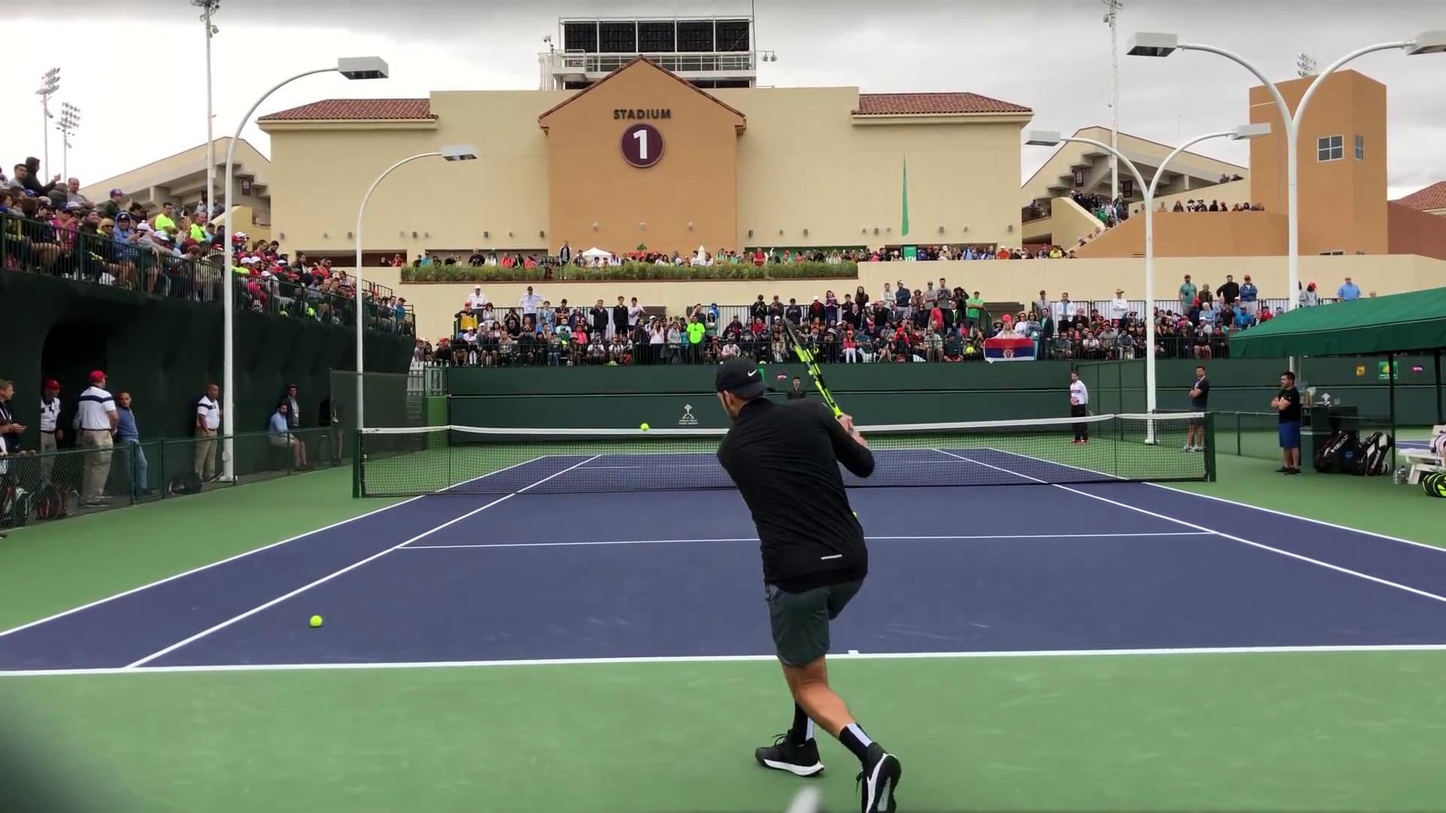ball: (638, 419, 653, 433), (309, 615, 329, 624)
